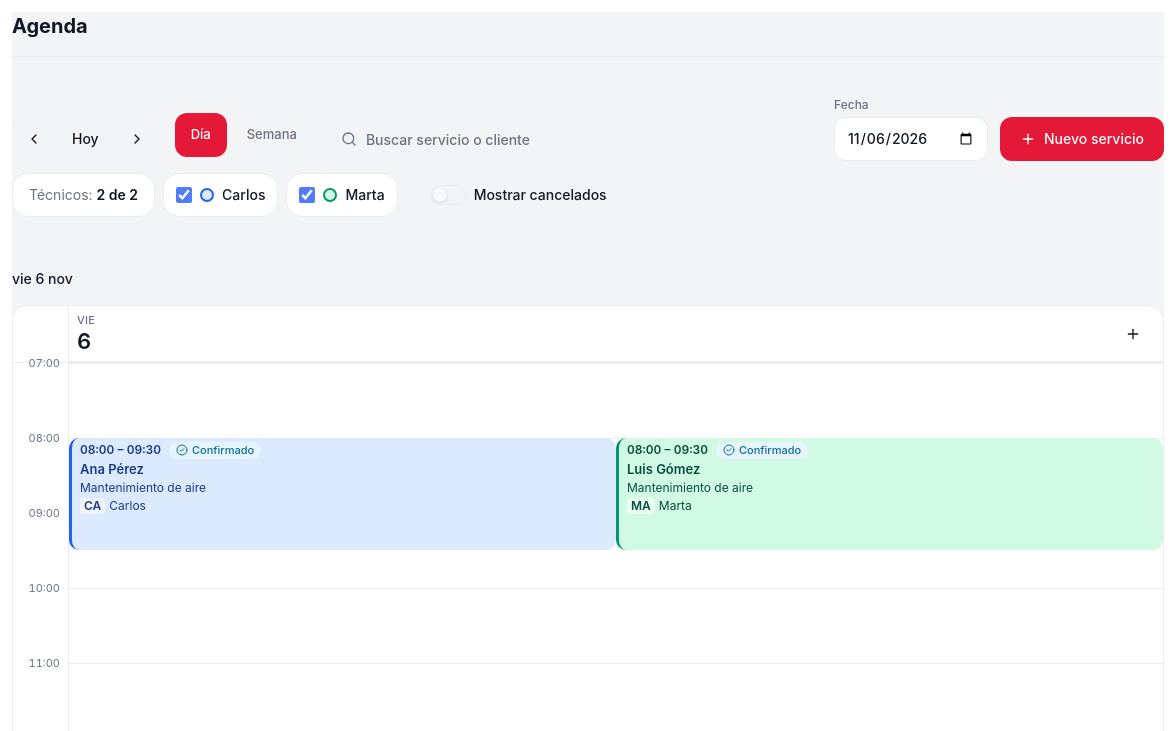
AgendaPage: selector de técnicos › desmarcar a un técnico oculta sus servicios y pide una sola solicitud nueva de horas
Expected: the button "Luis Gómez" is shown, [616,438,1163,550]
Click the checkbox labelled "Marta". click: click(308, 195)
box: [300,187,316,203]
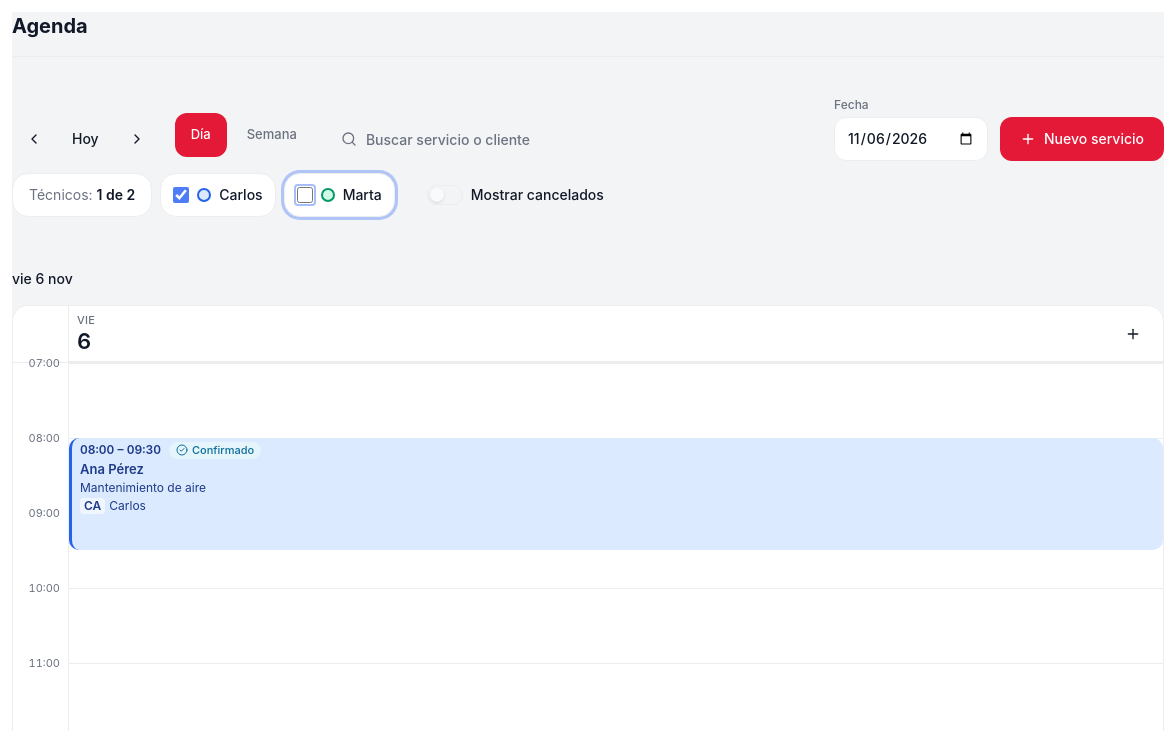
Expected: the button "Ana Pérez" is shown, [69,438,1163,550]
Expected: the button "Luis Gómez" is gone
